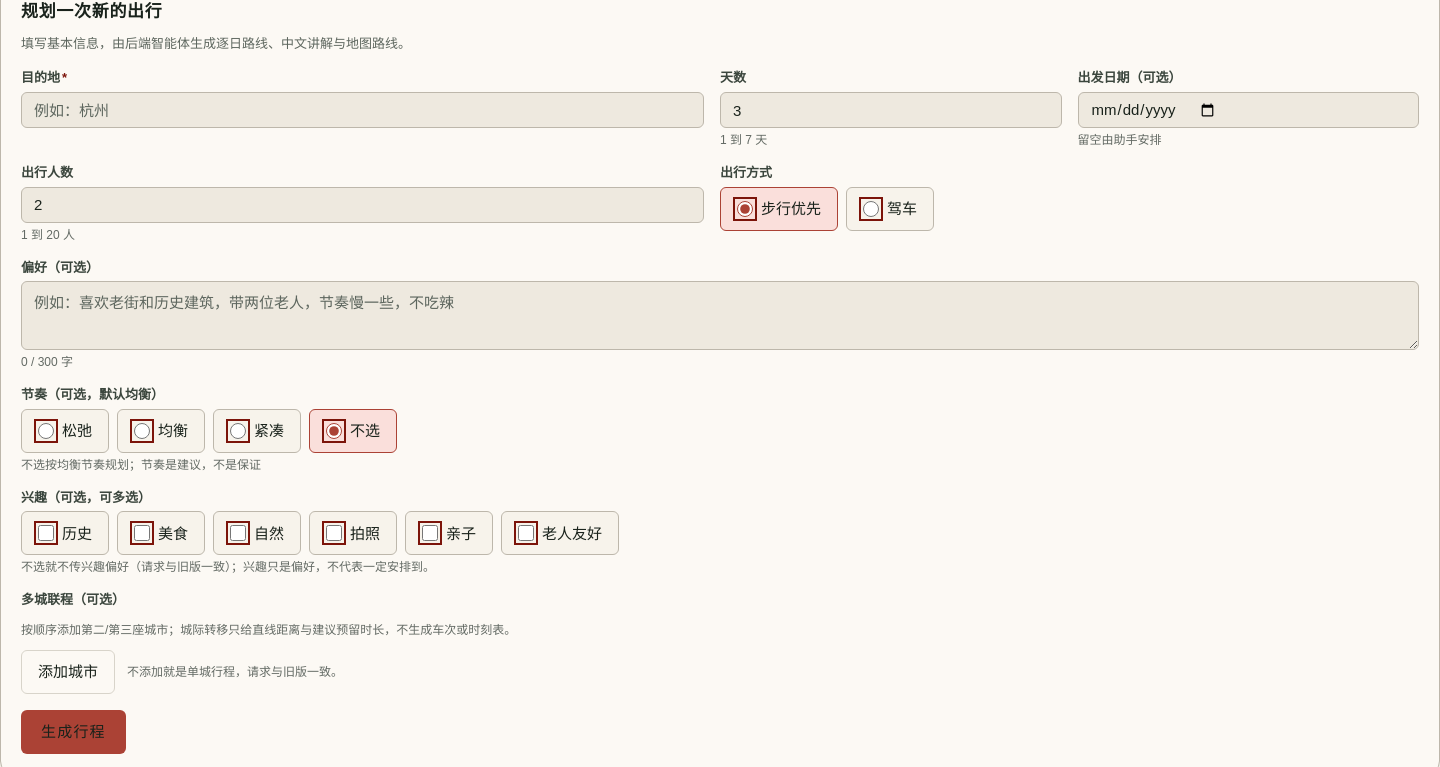
Test: PlanForm 多城联程（七期 S1） › 城市名与主城重复：阻止提交并显示可定位错误
The image size is (1440, 767).
In the field labelled "目的地*": (362, 110) [21, 92, 704, 128], type "杭州"
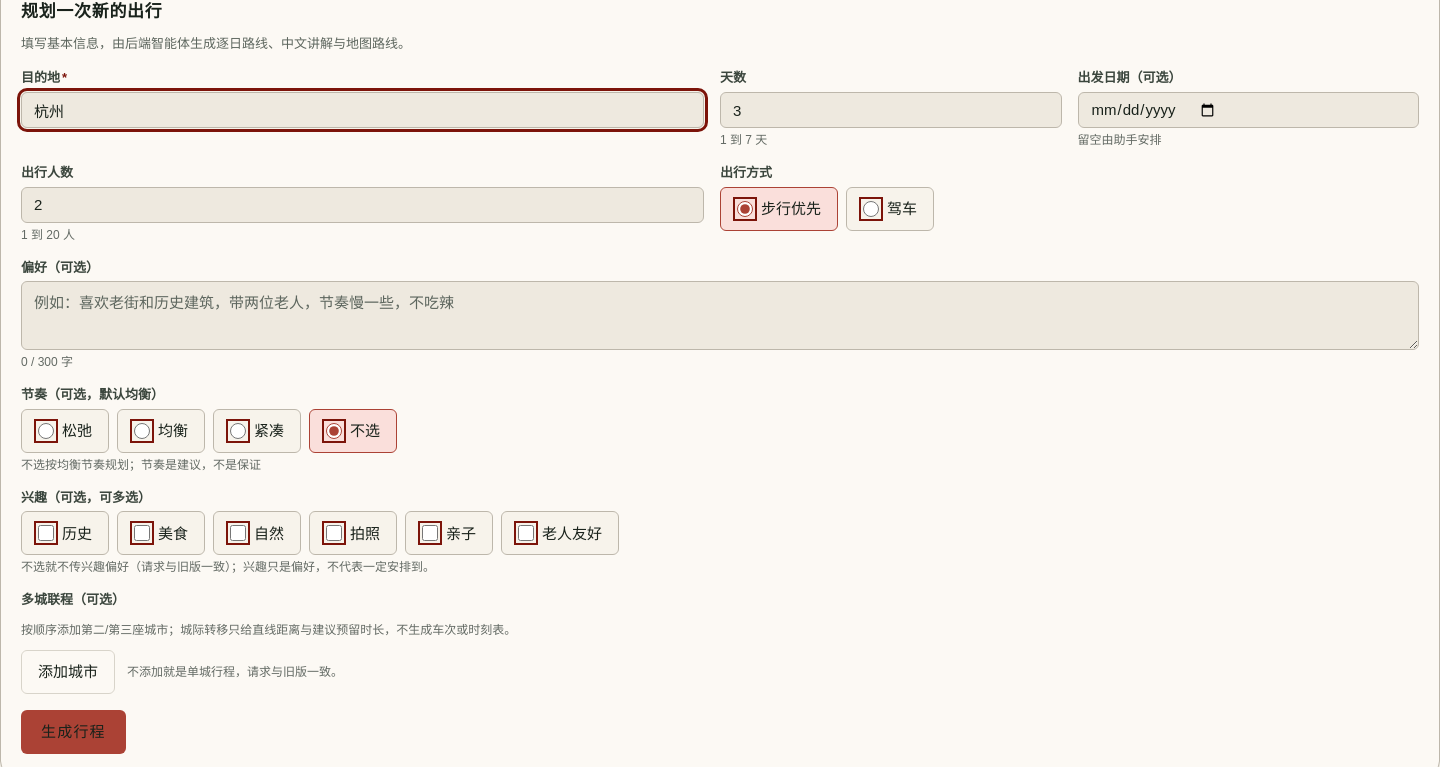
Click the button "添加城市": (68, 672) [21, 650, 115, 694]
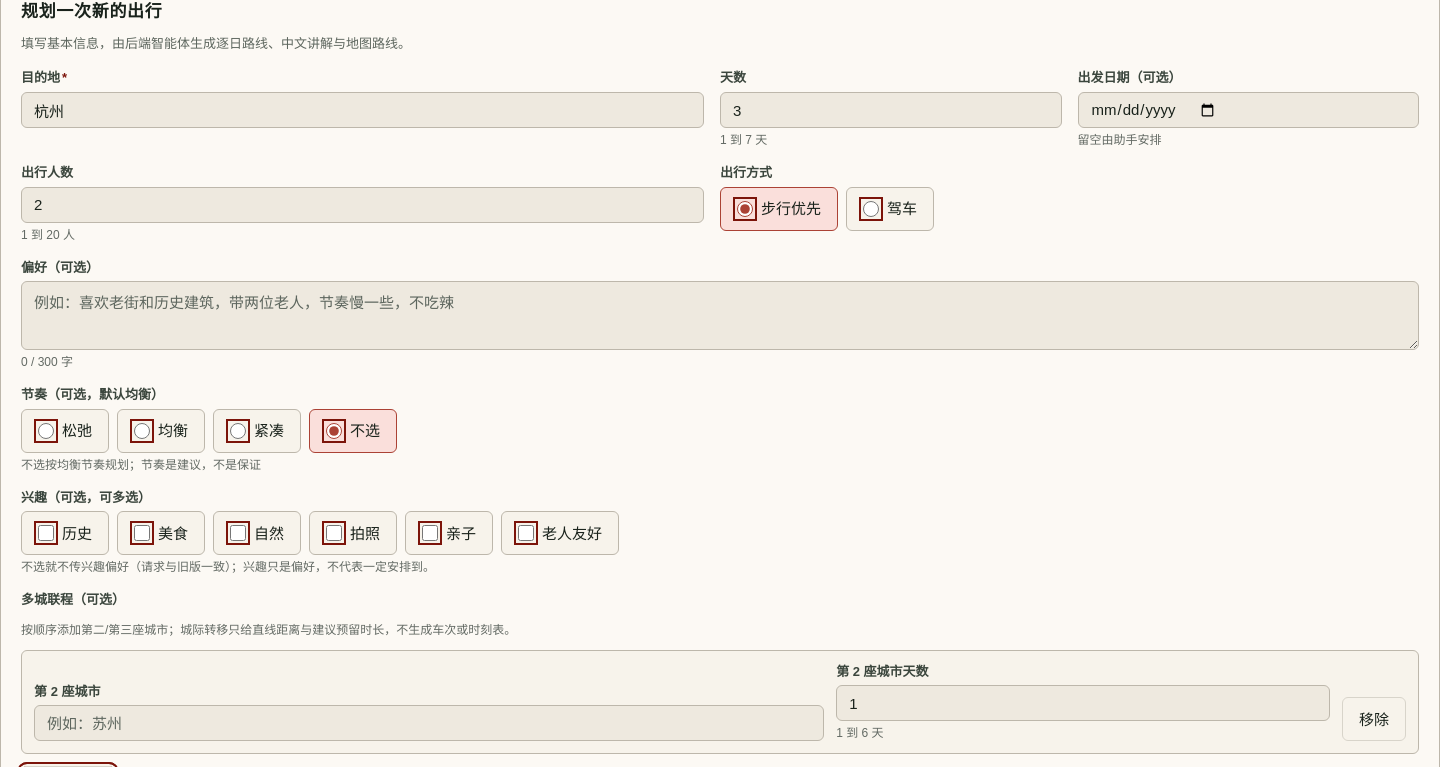
In the field labelled "第 2 座城市": (429, 723) [34, 705, 824, 741], type "杭州"
(page scrolled)
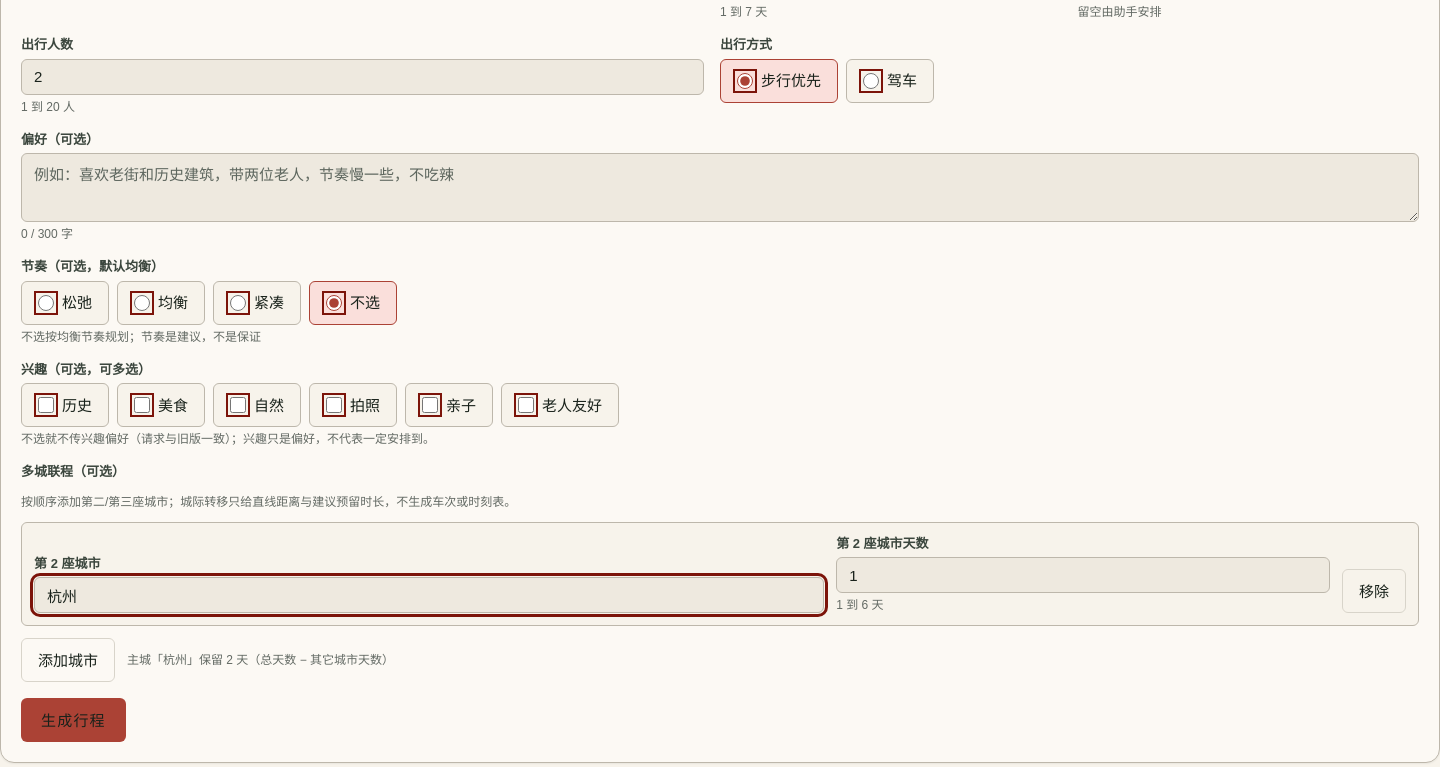
Click the button "生成行程": (73, 720) [21, 698, 126, 742]
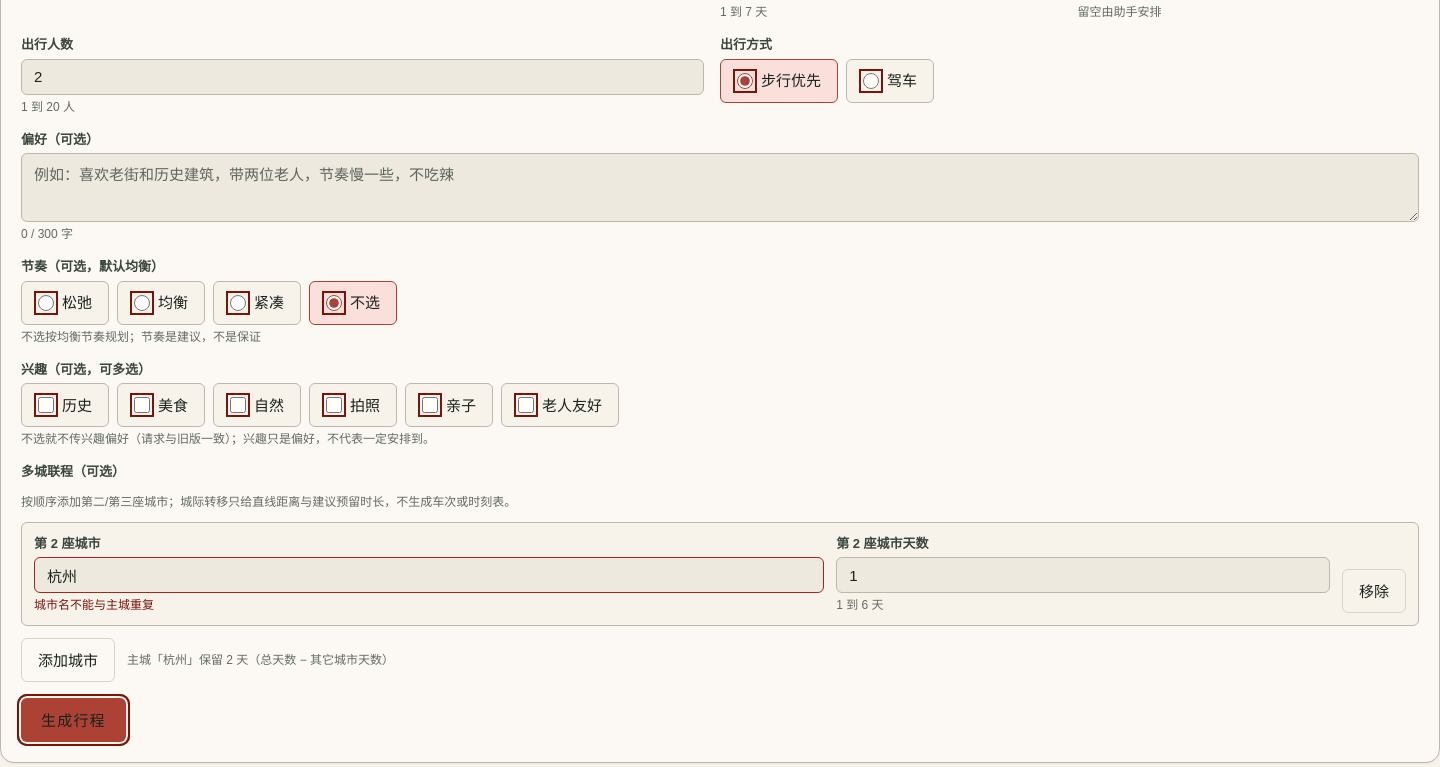
Now the text "城市名不能与主城重复" is shown, box [34, 598, 154, 612]
